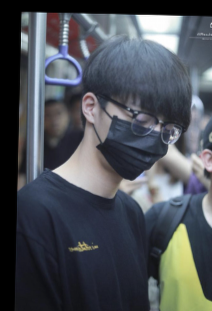with_mask: (91, 95, 177, 181)
